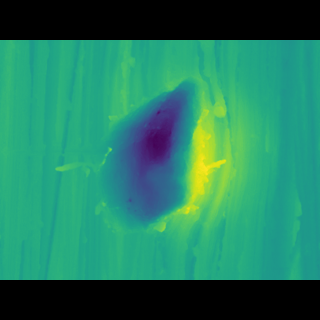Loch: (88, 92, 232, 224)
